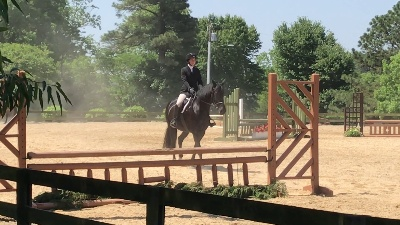jetta: (161, 77, 228, 164)
